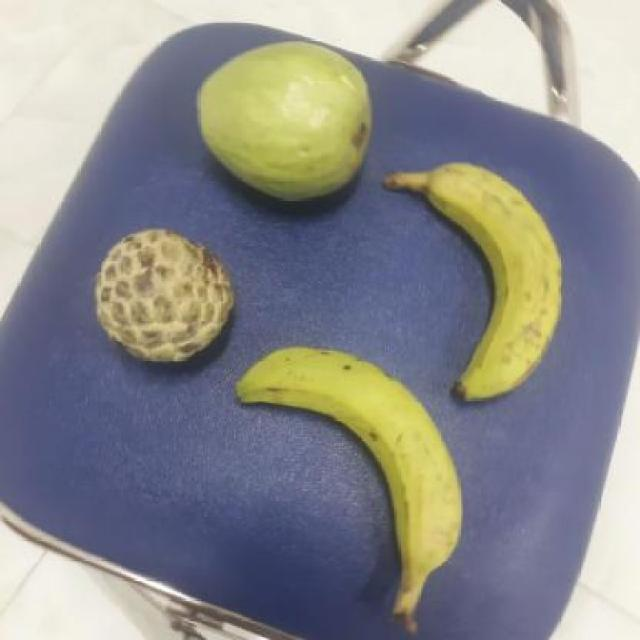banana: (218, 350, 457, 601), (382, 154, 560, 398)
guava: (193, 35, 370, 202)
sugar apple: (87, 229, 233, 365)
